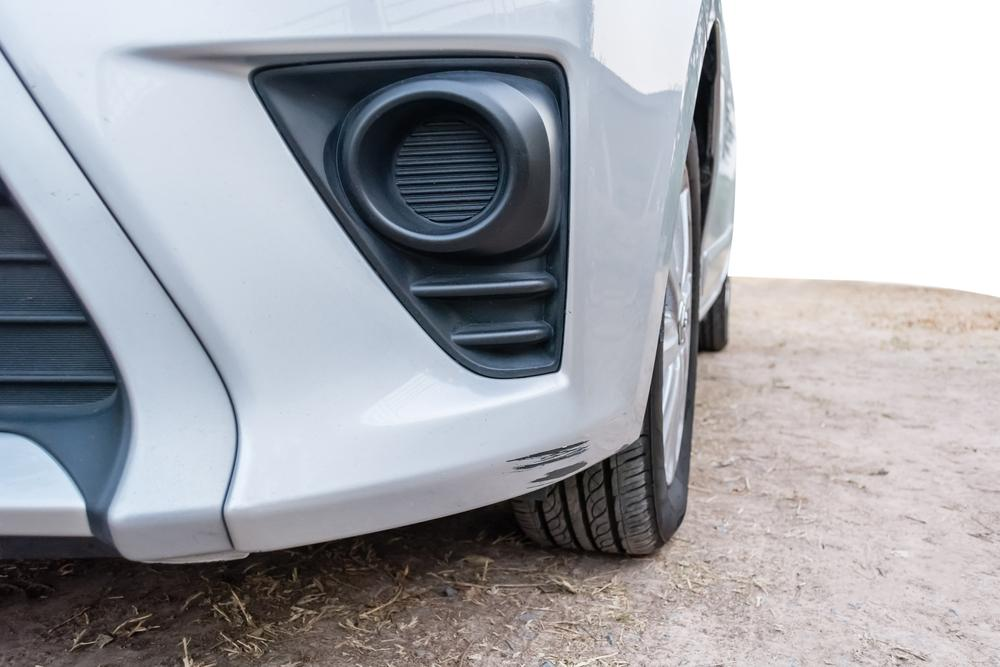scratch: (513, 432, 592, 491)
